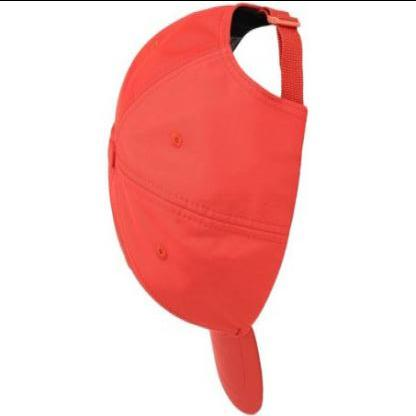cap: (101, 0, 316, 415)
